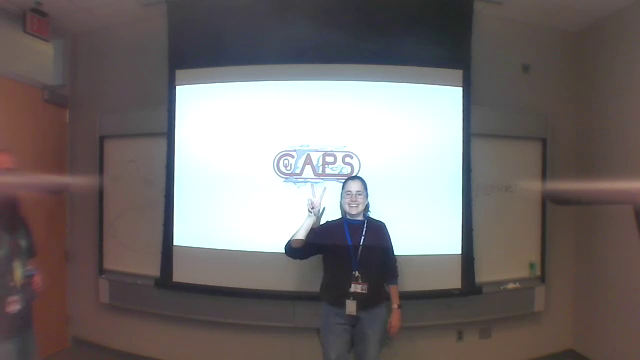peace: (300, 177, 328, 218)
